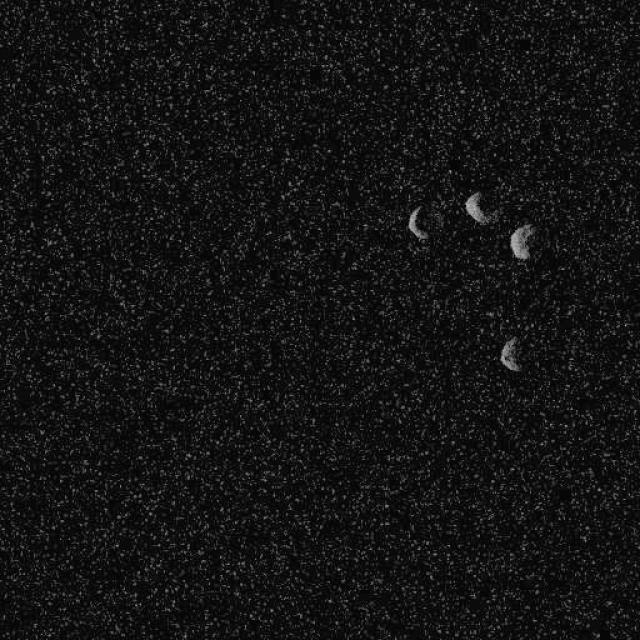D2: (509, 222, 536, 260), (462, 190, 490, 225), (498, 335, 522, 373), (406, 204, 429, 240)
